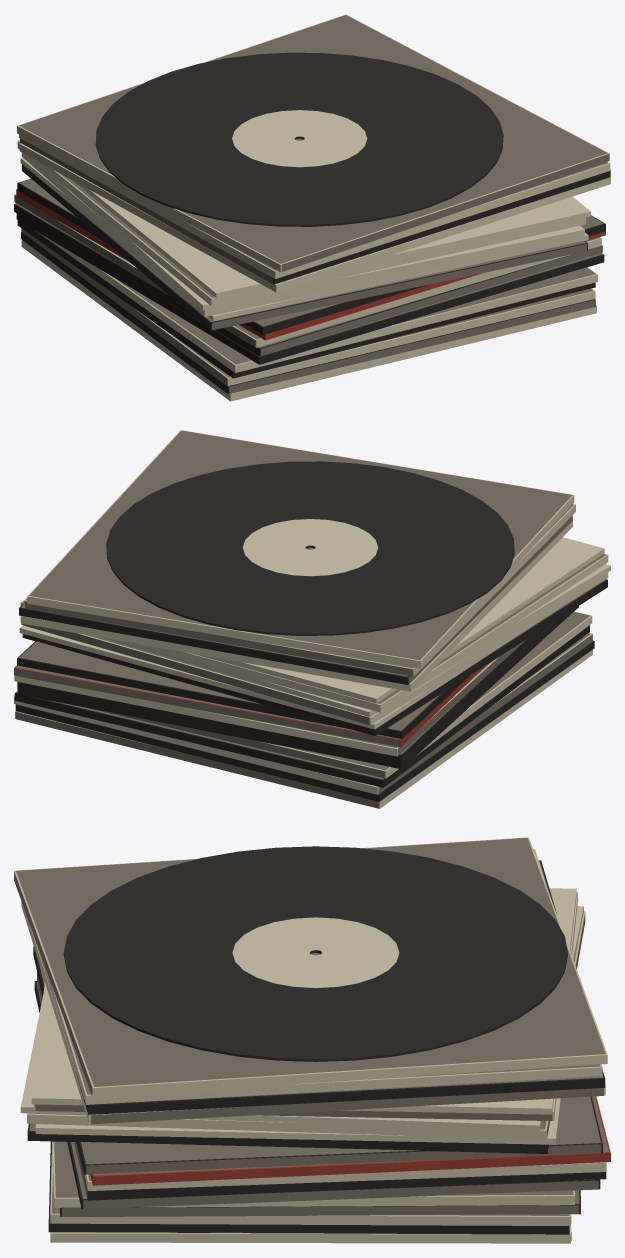
The model's file is record-stack-714e9f8688b5.glb.
The picture shows the model from 3 angles, top to bottom: view 1: azimuth 30°, elevation 25°; view 2: azimuth 150°, elevation 25°; view 3: azimuth 270°, elevation 25°; orthographic projection. The views are drawn at different scales.
Parts seen in each view (by area): view 1: paper, plastic-dark, cover-print, cone-paper, accent-warm; view 2: plastic-dark, cover-print, paper, cone-paper, accent-warm; view 3: plastic-dark, cover-print, paper, cone-paper, accent-warm.
Part boxes in pixels (box(x1,y1,x2,y2)): paper: box(14, 14, 610, 401); plastic-dark: box(95, 52, 503, 226); cover-print: box(15, 15, 608, 393); cone-paper: box(14, 138, 610, 394); accent-warm: box(16, 189, 605, 340); plastic-dark: box(106, 461, 514, 635); cover-print: box(15, 430, 605, 808); paper: box(14, 430, 610, 808); cone-paper: box(14, 515, 607, 801); accent-warm: box(14, 665, 485, 747); plastic-dark: box(63, 846, 567, 1061); cover-print: box(14, 838, 608, 1240); paper: box(14, 837, 607, 1243); cone-paper: box(27, 860, 606, 1234); accent-warm: box(90, 1096, 610, 1185).
Size of the model in its own units: 0.3572 by 0.116 by 0.3576.
